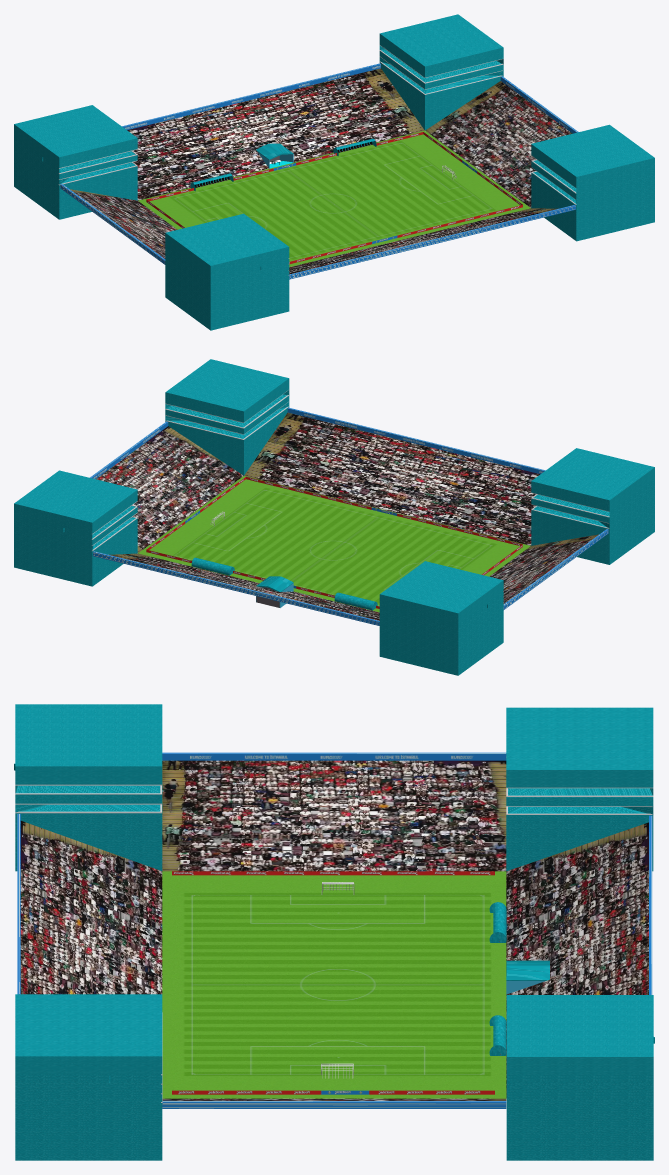
Rendered from stadium-transformed.glb.
The picture shows the model from 3 angles, top to bottom: view 1: azimuth 30°, elevation 25°; view 2: azimuth 150°, elevation 25°; view 3: azimuth 270°, elevation 25°; orthographic projection. The views are drawn at different scales.
Visible parts, largest first — view 1: Enter.Roof, stands.N, Pitch, banner.E.Top, Goal.Frame.West, banner.N.Pitch, Enter.Stairs; view 2: Enter.Roof, stands.N, Pitch, banner.E.Top, Goal.Frame.West, banner.N.Pitch; view 3: Enter.Roof, stands.N, Pitch, banner.E.Top, banner.W.Pitch, Goal.Frame.West.
Boxes of the visible parts, x1=… form: Enter.Roof: x1=14, y1=14, x2=654, y2=330; stands.N: x1=70, y1=68, x2=572, y2=274; Pitch: x1=138, y1=130, x2=530, y2=266; banner.E.Top: x1=60, y1=63, x2=578, y2=279; Goal.Frame.West: x1=58, y1=45, x2=576, y2=275; banner.N.Pitch: x1=146, y1=132, x2=522, y2=264; Enter.Stairs: x1=194, y1=141, x2=373, y2=187; Enter.Roof: x1=14, y1=359, x2=654, y2=675; stands.N: x1=96, y1=412, x2=598, y2=620; Pitch: x1=138, y1=476, x2=530, y2=612; banner.E.Top: x1=90, y1=407, x2=608, y2=625; Goal.Frame.West: x1=91, y1=390, x2=609, y2=608; banner.N.Pitch: x1=146, y1=477, x2=522, y2=608; Enter.Roof: x1=14, y1=704, x2=654, y2=1160; stands.N: x1=20, y1=760, x2=648, y2=1100; Pitch: x1=162, y1=871, x2=506, y2=1098; banner.E.Top: x1=17, y1=752, x2=652, y2=1108; banner.W.Pitch: x1=172, y1=871, x2=494, y2=1094; Goal.Frame.West: x1=15, y1=784, x2=653, y2=1102.
Bounding box in the file's own units: 196 × 30.13 × 151.
7 materials, 7 textured.
